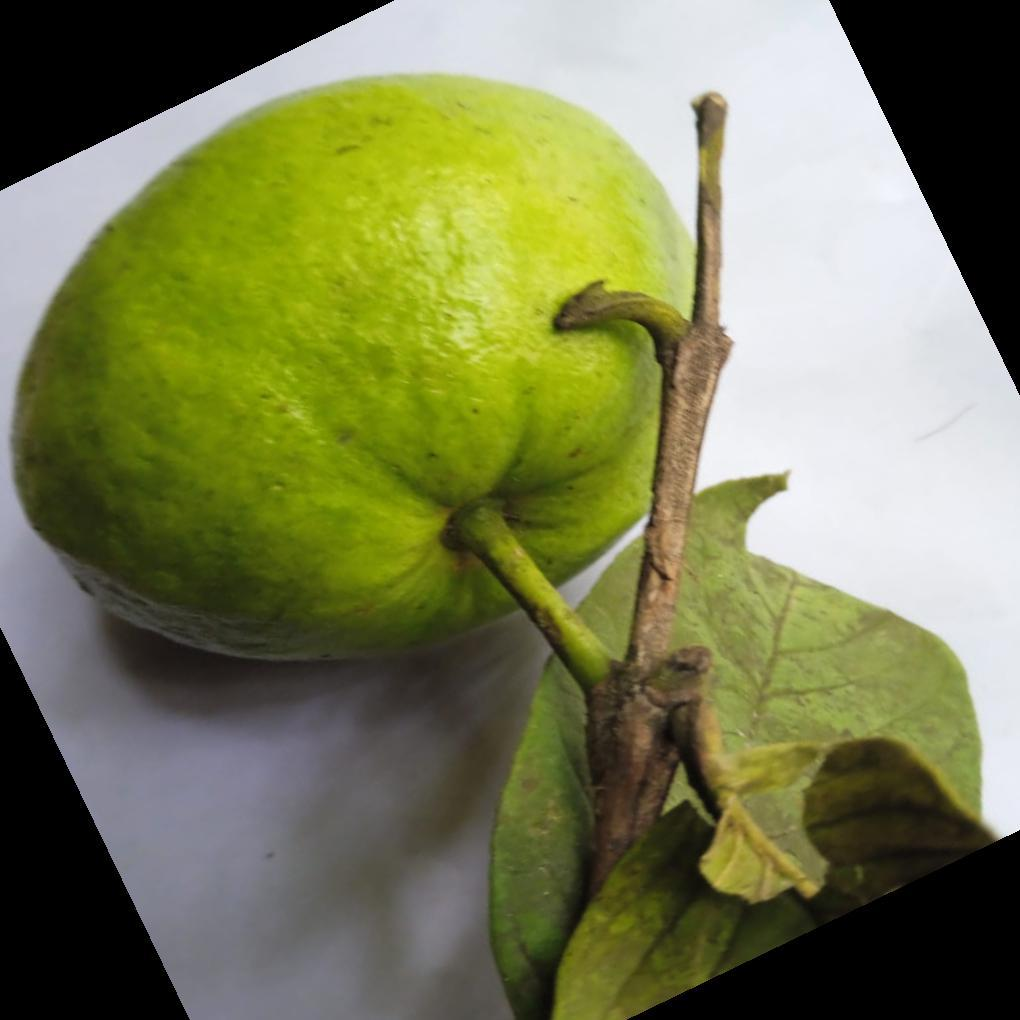FreshGuava: (10, 73, 696, 688)
